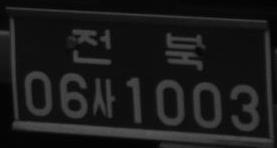0: (154, 78, 185, 126), (192, 80, 221, 129), (23, 69, 52, 116)
1: (121, 76, 146, 124)
3: (229, 83, 260, 132)
6: (58, 71, 88, 119)
사: (91, 78, 115, 118)
전북_D: (72, 27, 203, 71)
